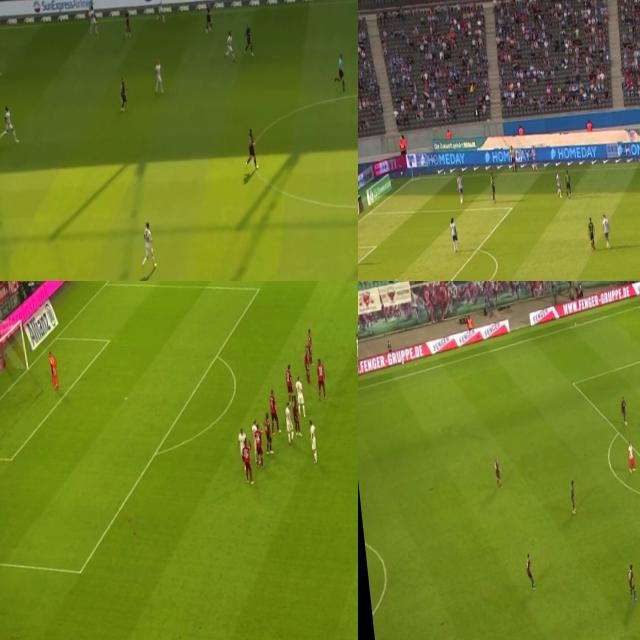ball: (532, 150, 536, 156)
player: (140, 218, 160, 276), (242, 125, 259, 172), (0, 102, 19, 144), (249, 418, 265, 464), (252, 422, 267, 471), (267, 388, 282, 437), (240, 438, 255, 486), (236, 424, 250, 472), (150, 59, 166, 100), (314, 356, 328, 402), (308, 418, 320, 464), (116, 76, 130, 115), (284, 361, 296, 406), (262, 412, 274, 456), (294, 374, 306, 418), (201, 0, 215, 35), (222, 30, 236, 65), (283, 402, 294, 446), (291, 393, 302, 437), (600, 212, 612, 252), (86, 2, 100, 35), (585, 214, 597, 252), (48, 348, 59, 389), (626, 562, 638, 598), (242, 23, 255, 56), (454, 166, 465, 204), (522, 552, 534, 586), (446, 217, 459, 248), (302, 344, 312, 384), (624, 441, 636, 472), (304, 328, 314, 364), (122, 7, 133, 38), (488, 168, 498, 202), (528, 142, 540, 170), (568, 480, 578, 512), (492, 456, 502, 486), (554, 164, 562, 198), (154, 0, 165, 24), (564, 166, 572, 198), (620, 397, 628, 423), (353, 330, 358, 370)
